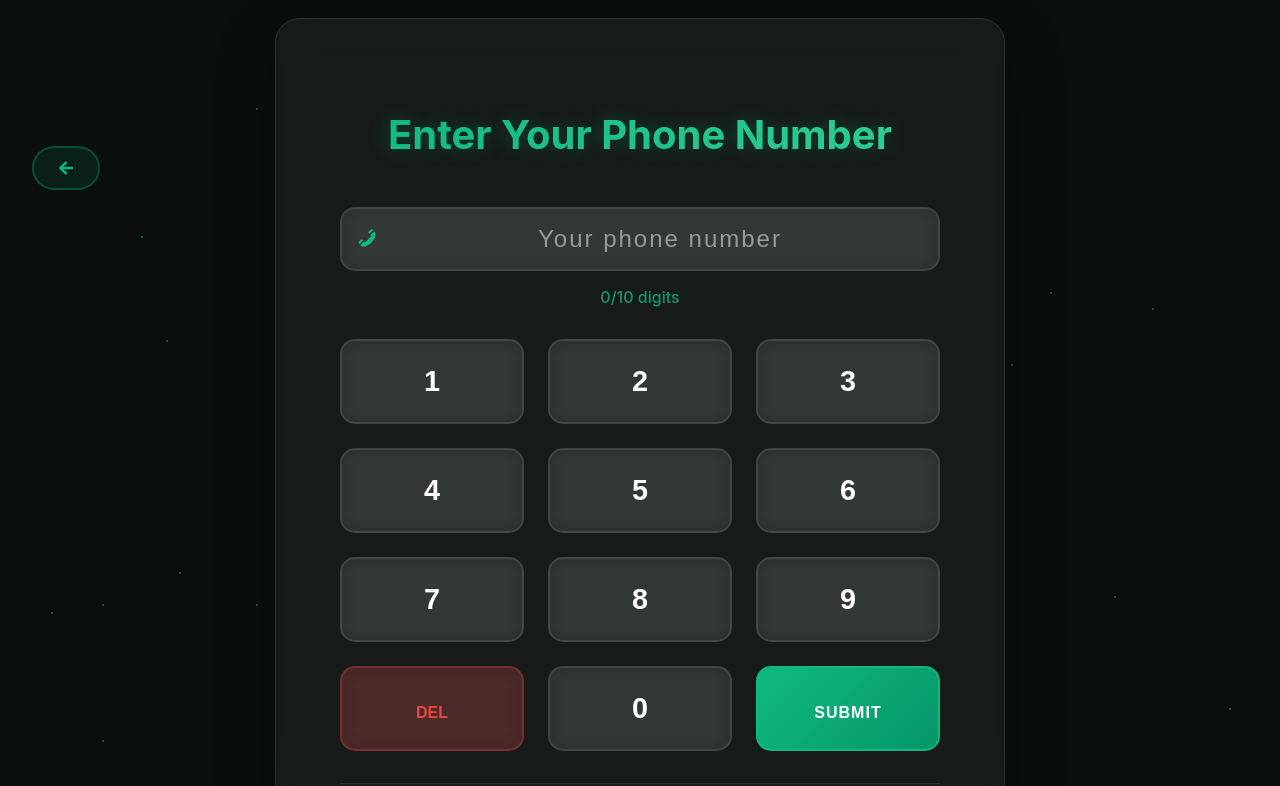
PhoneInput Component › should show error when phone is empty
This screenshot has width=1280, height=786.
What coordinates should you click on to do the following:
click the button "SUBMIT"
I would click on:
 (848, 708)
Its box is [756,666,940,751].
(page scrolled)
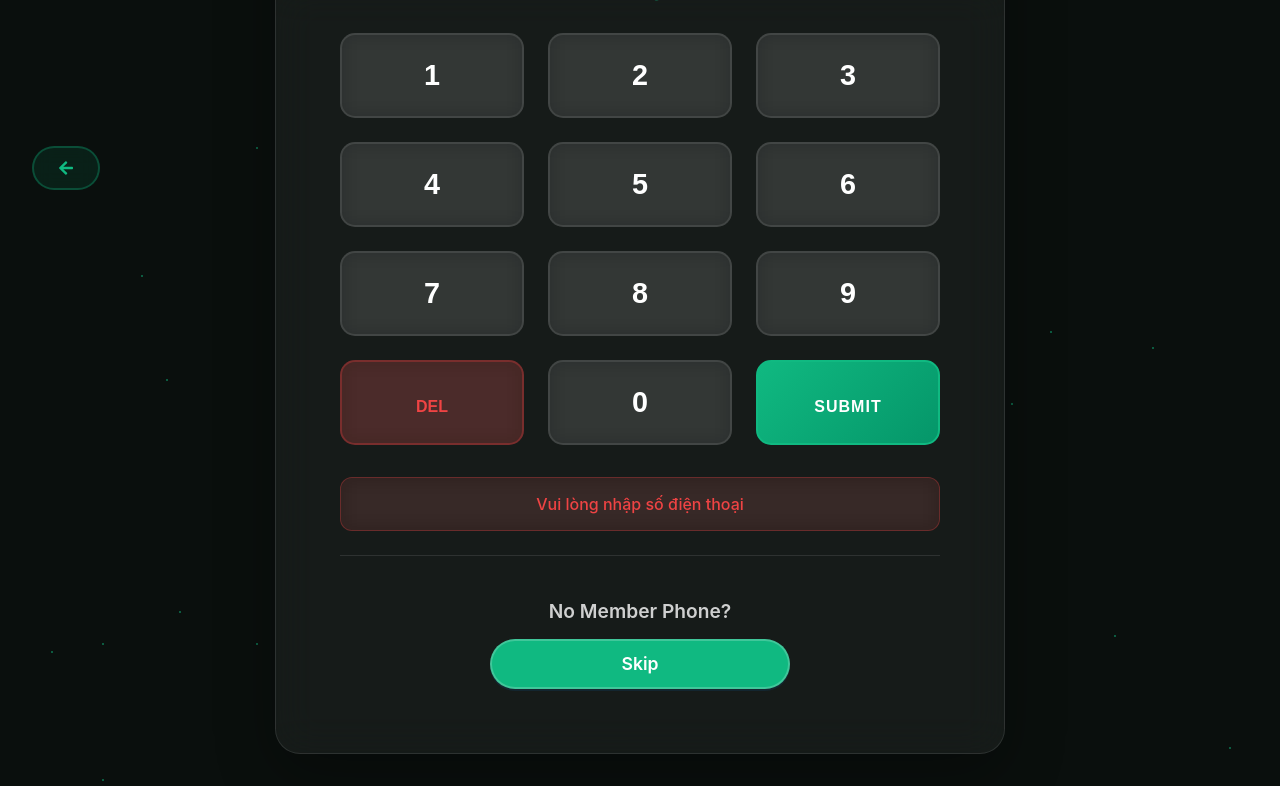
Now the text "Vui lòng nhập số điện thoại" is shown, box [340,477,940,531]
